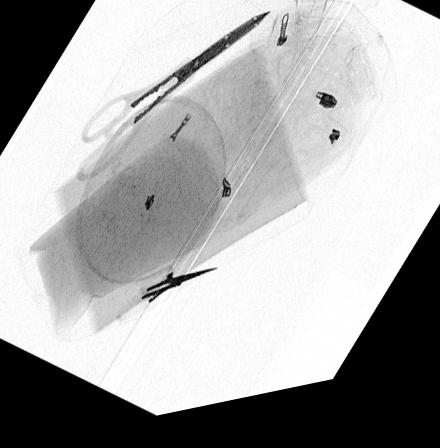Scissors: (75, 20, 273, 185), (115, 269, 218, 328)
